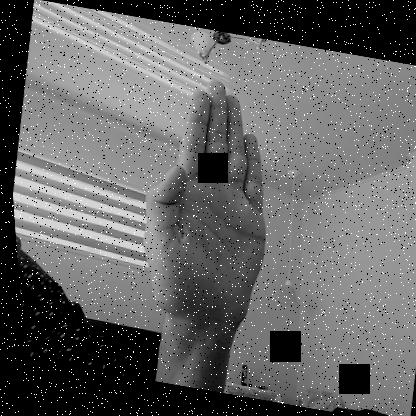B: (116, 69, 292, 334)
